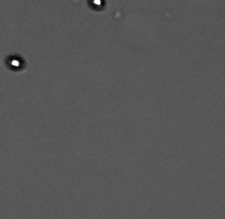Living Cell: (6, 53, 25, 71), (86, 1, 106, 11)
